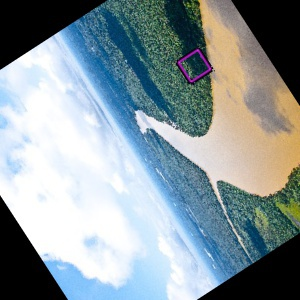square: (174, 47, 214, 84)
